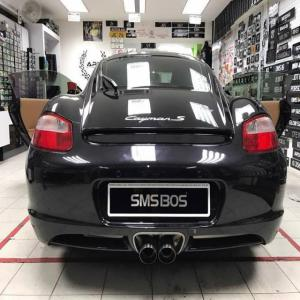Plate: (107, 183, 211, 218)
